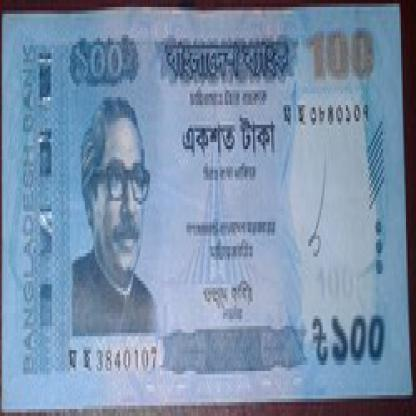one hundred taka: (308, 21, 378, 83), (328, 308, 391, 371), (66, 42, 132, 86)
